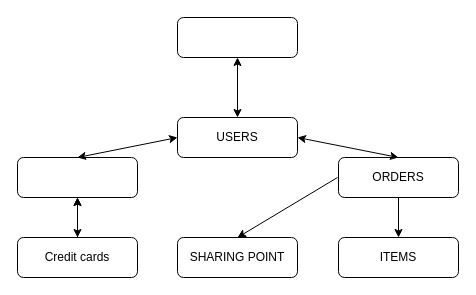
The diagram is 476 pixels wide and 295 high, and some of its shapes have lost their labels. The shapes that lost their labels are listed below. From the top down, each one's centre as x and y in pixels, then its label:
At (237,37): "COMPANIES".
At (77,177): "Wallet".
